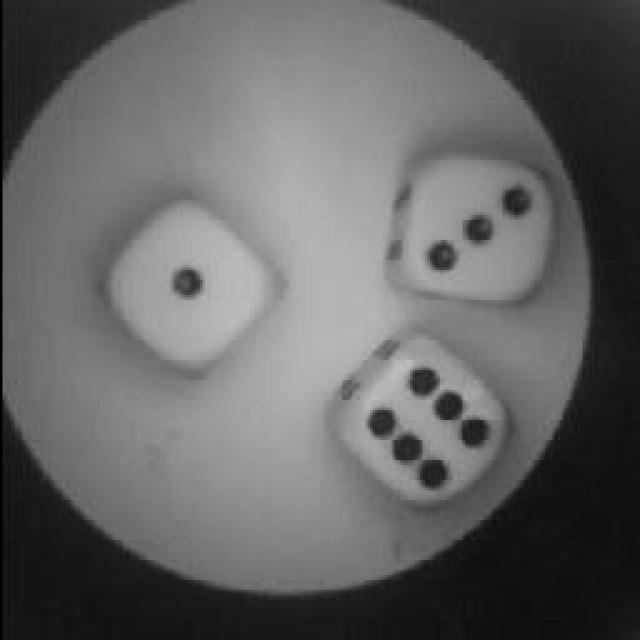dice_1: (105, 197, 273, 365)
dice_3: (395, 148, 557, 308)
dice_6: (330, 332, 508, 498)
